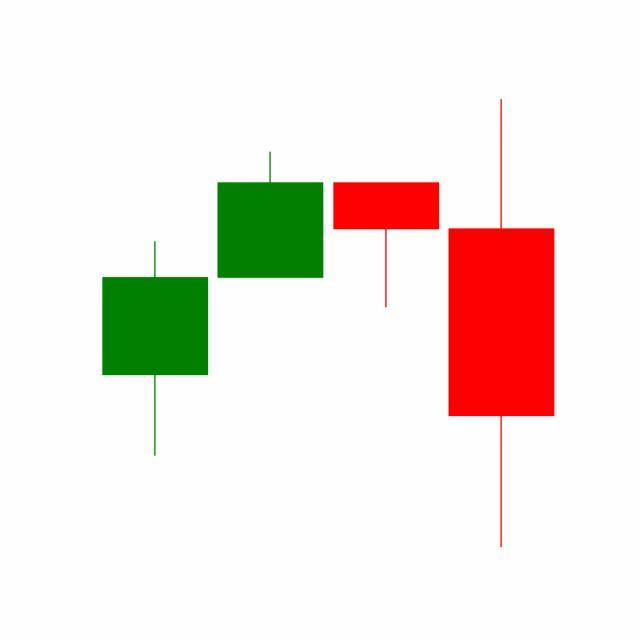Hammer: (329, 181, 445, 309)
